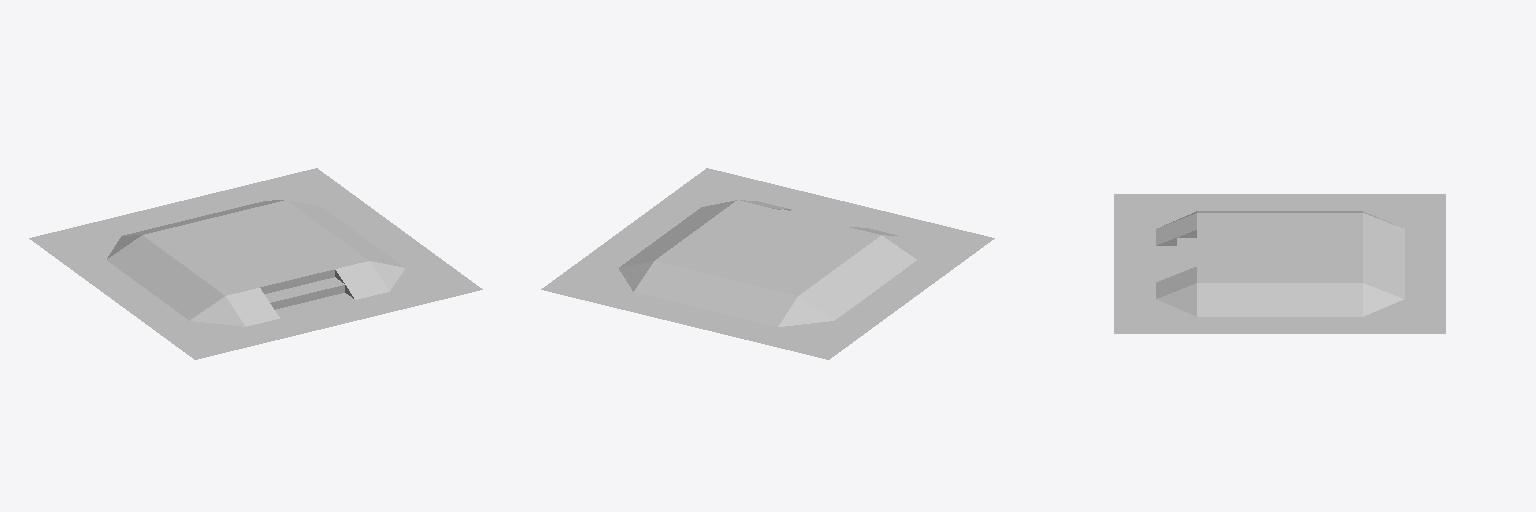
The model's file is piso.obj.
3 renders of one model, left to right at view 1: azimuth 30°, elevation 25°; view 2: azimuth 150°, elevation 25°; view 3: azimuth 270°, elevation 25°, orthographic.
Parts seen in each view (by area): view 1: Plano; view 2: Plano; view 3: Plano.
Part boxes in pixels (x1,y1,x2,y2): Plano: (29, 168, 482, 359); Plano: (541, 168, 994, 359); Plano: (1114, 194, 1445, 333).
Bounding box in the file's own units: 40 × 2.13 × 40.